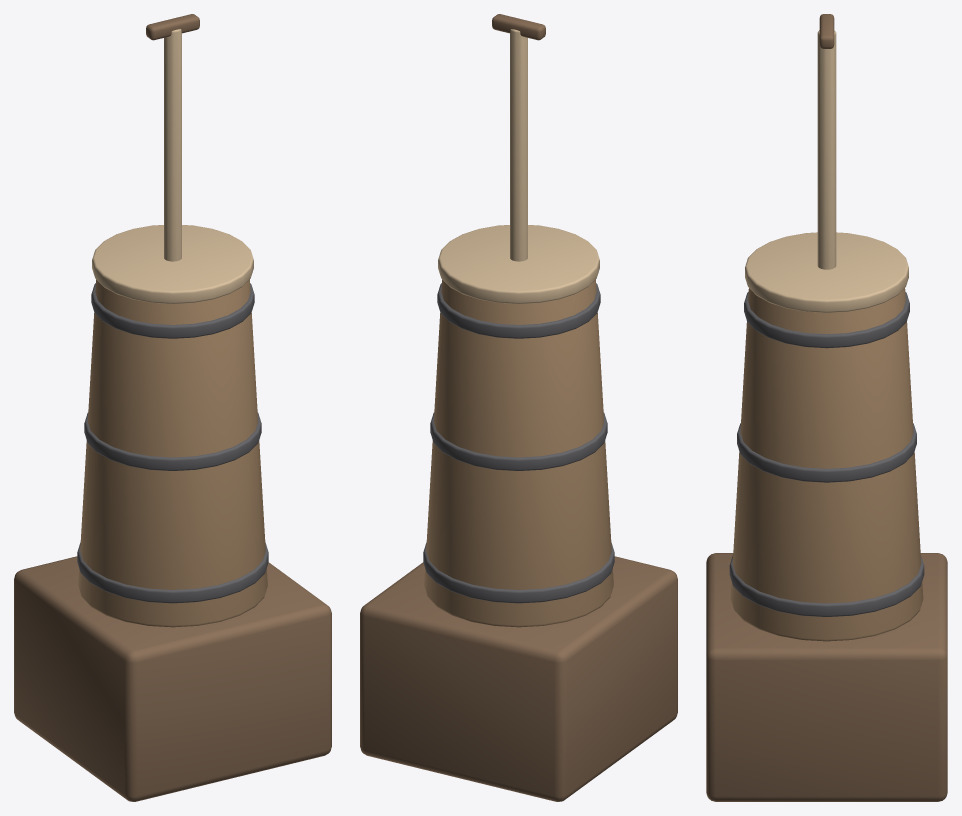
The model's file is Maselnica.fbx.
3 renders of one model, left to right at view 1: azimuth 30°, elevation 25°; view 2: azimuth 150°, elevation 25°; view 3: azimuth 270°, elevation 25°, orthographic.
Visible parts, largest first — view 1: Maselnica_Korpus, Maselnica_Tlok; view 2: Maselnica_Korpus, Maselnica_Tlok; view 3: Maselnica_Korpus, Maselnica_Tlok.
Part boxes in pixels (<box>): Maselnica_Korpus: <box>14,225,331,801</box>; Maselnica_Tlok: <box>146,14,199,261</box>; Maselnica_Korpus: <box>360,225,677,801</box>; Maselnica_Tlok: <box>492,14,545,261</box>; Maselnica_Korpus: <box>706,232,947,801</box>; Maselnica_Tlok: <box>817,14,836,269</box>.
Size of the model in its own units: 50 by 166 by 50.
